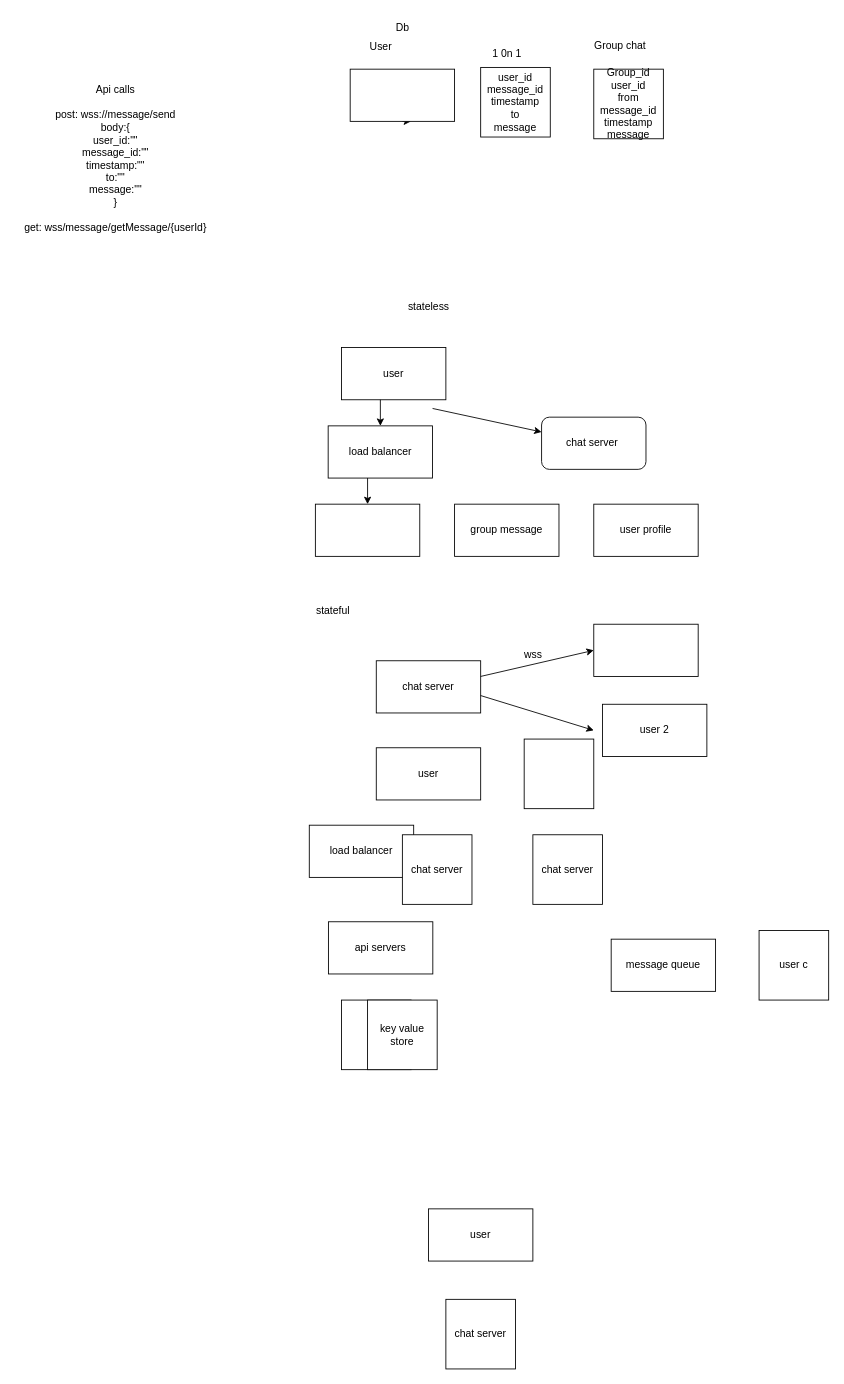
Image size: 844x1384. Some labels were removed from this diagram. Each missing label, with the centre of its shape:
service discovery: the point at 367,529
user 1: the point at 645,649
user b: the point at 558,773
User_id user_name email psw hash_psw: the point at 402,94
